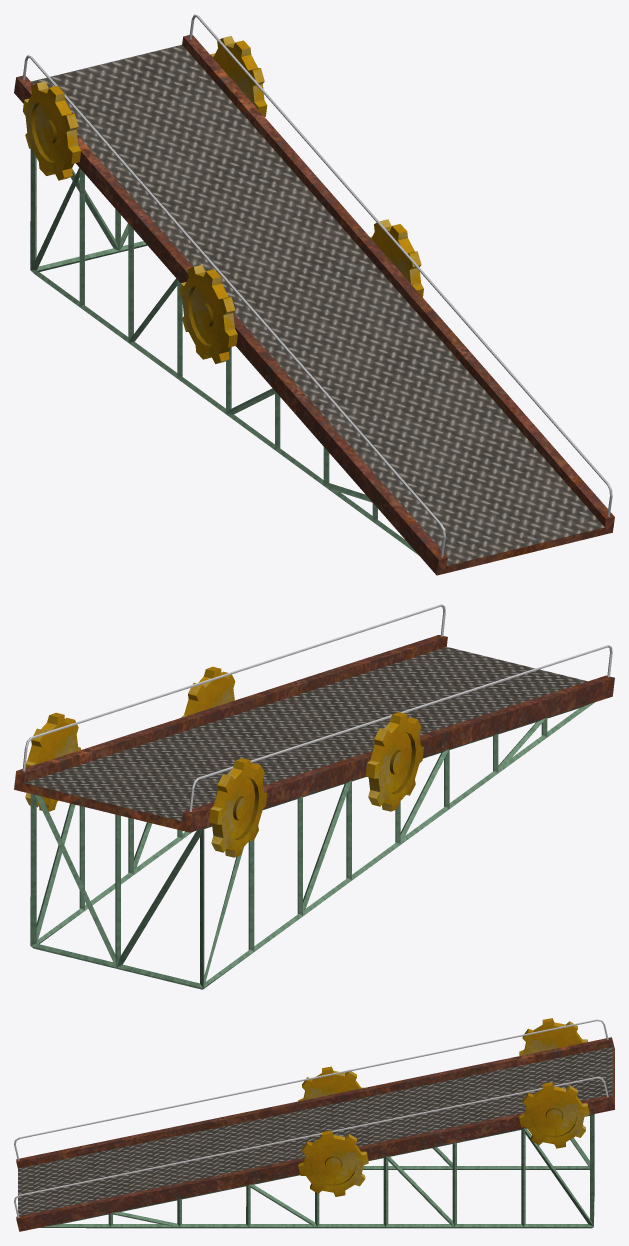
Rendered from Big Ramp.fbx.
The picture shows the model from 3 angles, top to bottom: view 1: azimuth 30°, elevation 25°; view 2: azimuth 150°, elevation 25°; view 3: azimuth 270°, elevation 25°; orthographic projection. The views are drawn at different scales.
Visible parts, largest first — view 1: Ramp, Cylinder.014, Cylinder.013, Vert.003; view 2: Ramp, Cylinder.014, Cylinder.013, Vert.003; view 3: Ramp, Cylinder.014, Cylinder.013, Vert.003.
Boxes of the visible parts, x1=… form: Ramp: x1=14, y1=35, x2=614, y2=575; Cylinder.014: x1=23, y1=36, x2=267, y2=180; Cylinder.013: x1=179, y1=219, x2=423, y2=363; Vert.003: x1=22, y1=14, x2=612, y2=557; Ramp: x1=14, y1=635, x2=614, y2=989; Cylinder.014: x1=25, y1=712, x2=267, y2=857; Cylinder.013: x1=181, y1=666, x2=423, y2=811; Vert.003: x1=22, y1=604, x2=612, y2=811; Ramp: x1=16, y1=1037, x2=614, y2=1231; Cylinder.014: x1=519, y1=1018, x2=589, y2=1148; Cylinder.013: x1=298, y1=1066, x2=368, y2=1196; Vert.003: x1=14, y1=1019, x2=608, y2=1217.
Size of the model in its own units: 673 by 714 by 2534.
